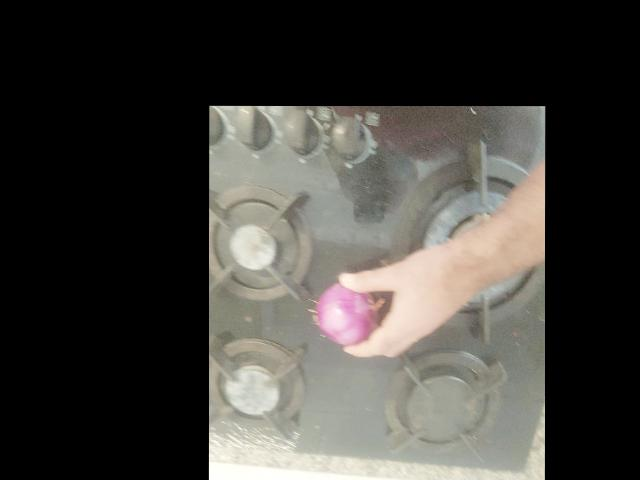onion: (324, 283, 370, 342)
